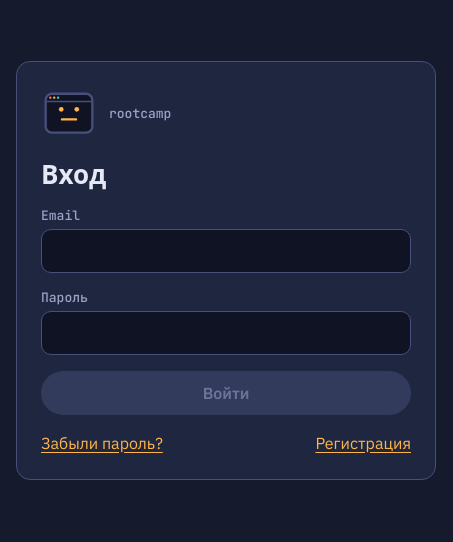
Scenario: Login › shows «Слишком много попыток» on 429
Step 1. Type "neo@example.com" into the field labelled "Email" → {"x": 226, "y": 250}, box 41,228 -> 411,272
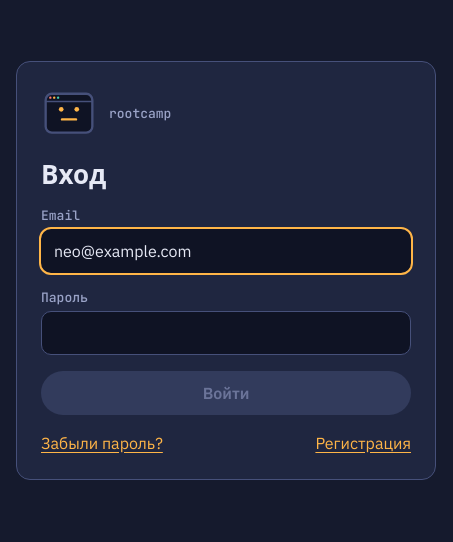
Step 2. Type "correct-horse" into the password field labelled "Пароль" → {"x": 226, "y": 332}, box 41,310 -> 411,354
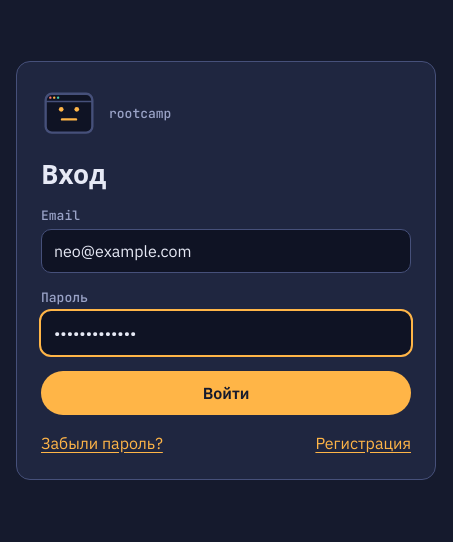
Step 3. Click the button "Войти" → {"x": 226, "y": 392}, box 41,370 -> 411,414
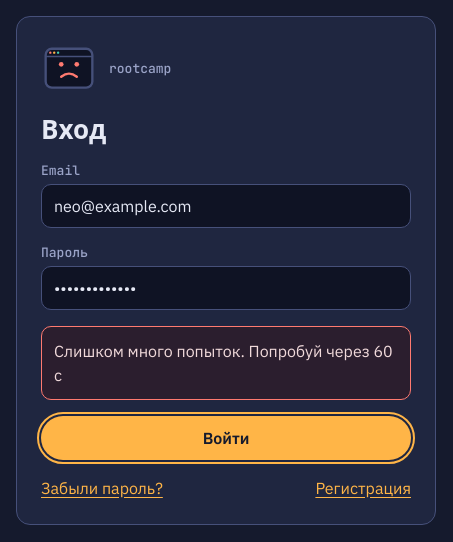
expect the message reads "Слишком много попыток. Попробуй через 60 с": met, box 54,340 -> 393,384
